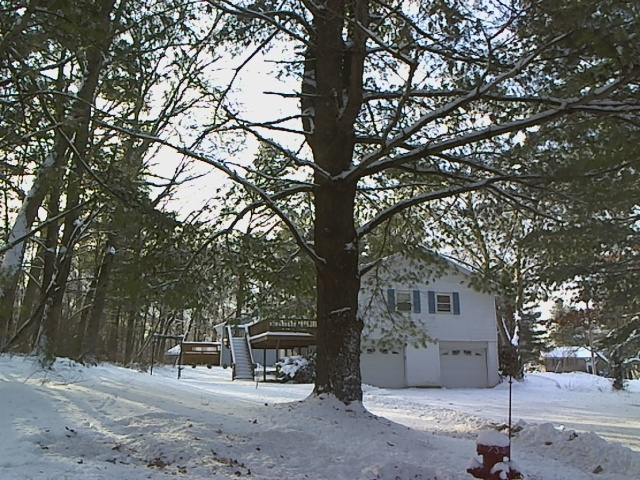Unploughed: (383, 383, 623, 431)
